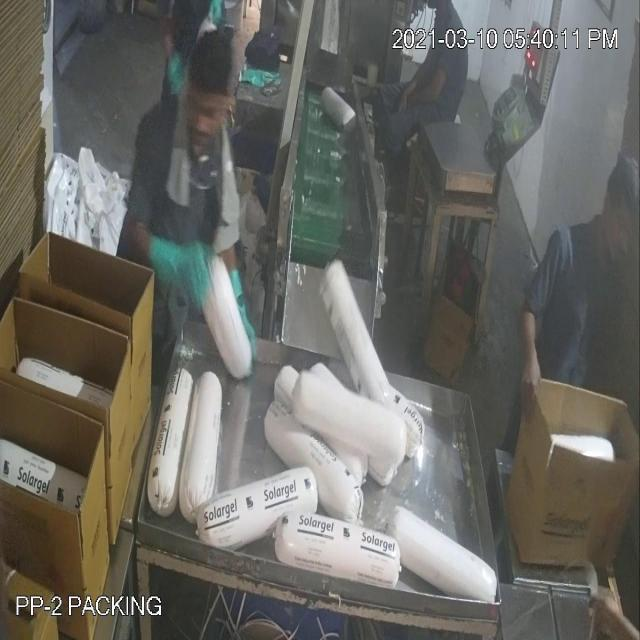No_Gloves: (34, 66, 531, 358)
